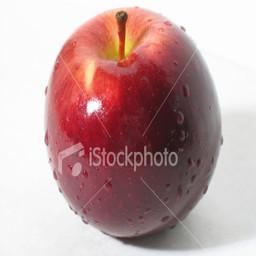apple: (44, 4, 222, 240)
